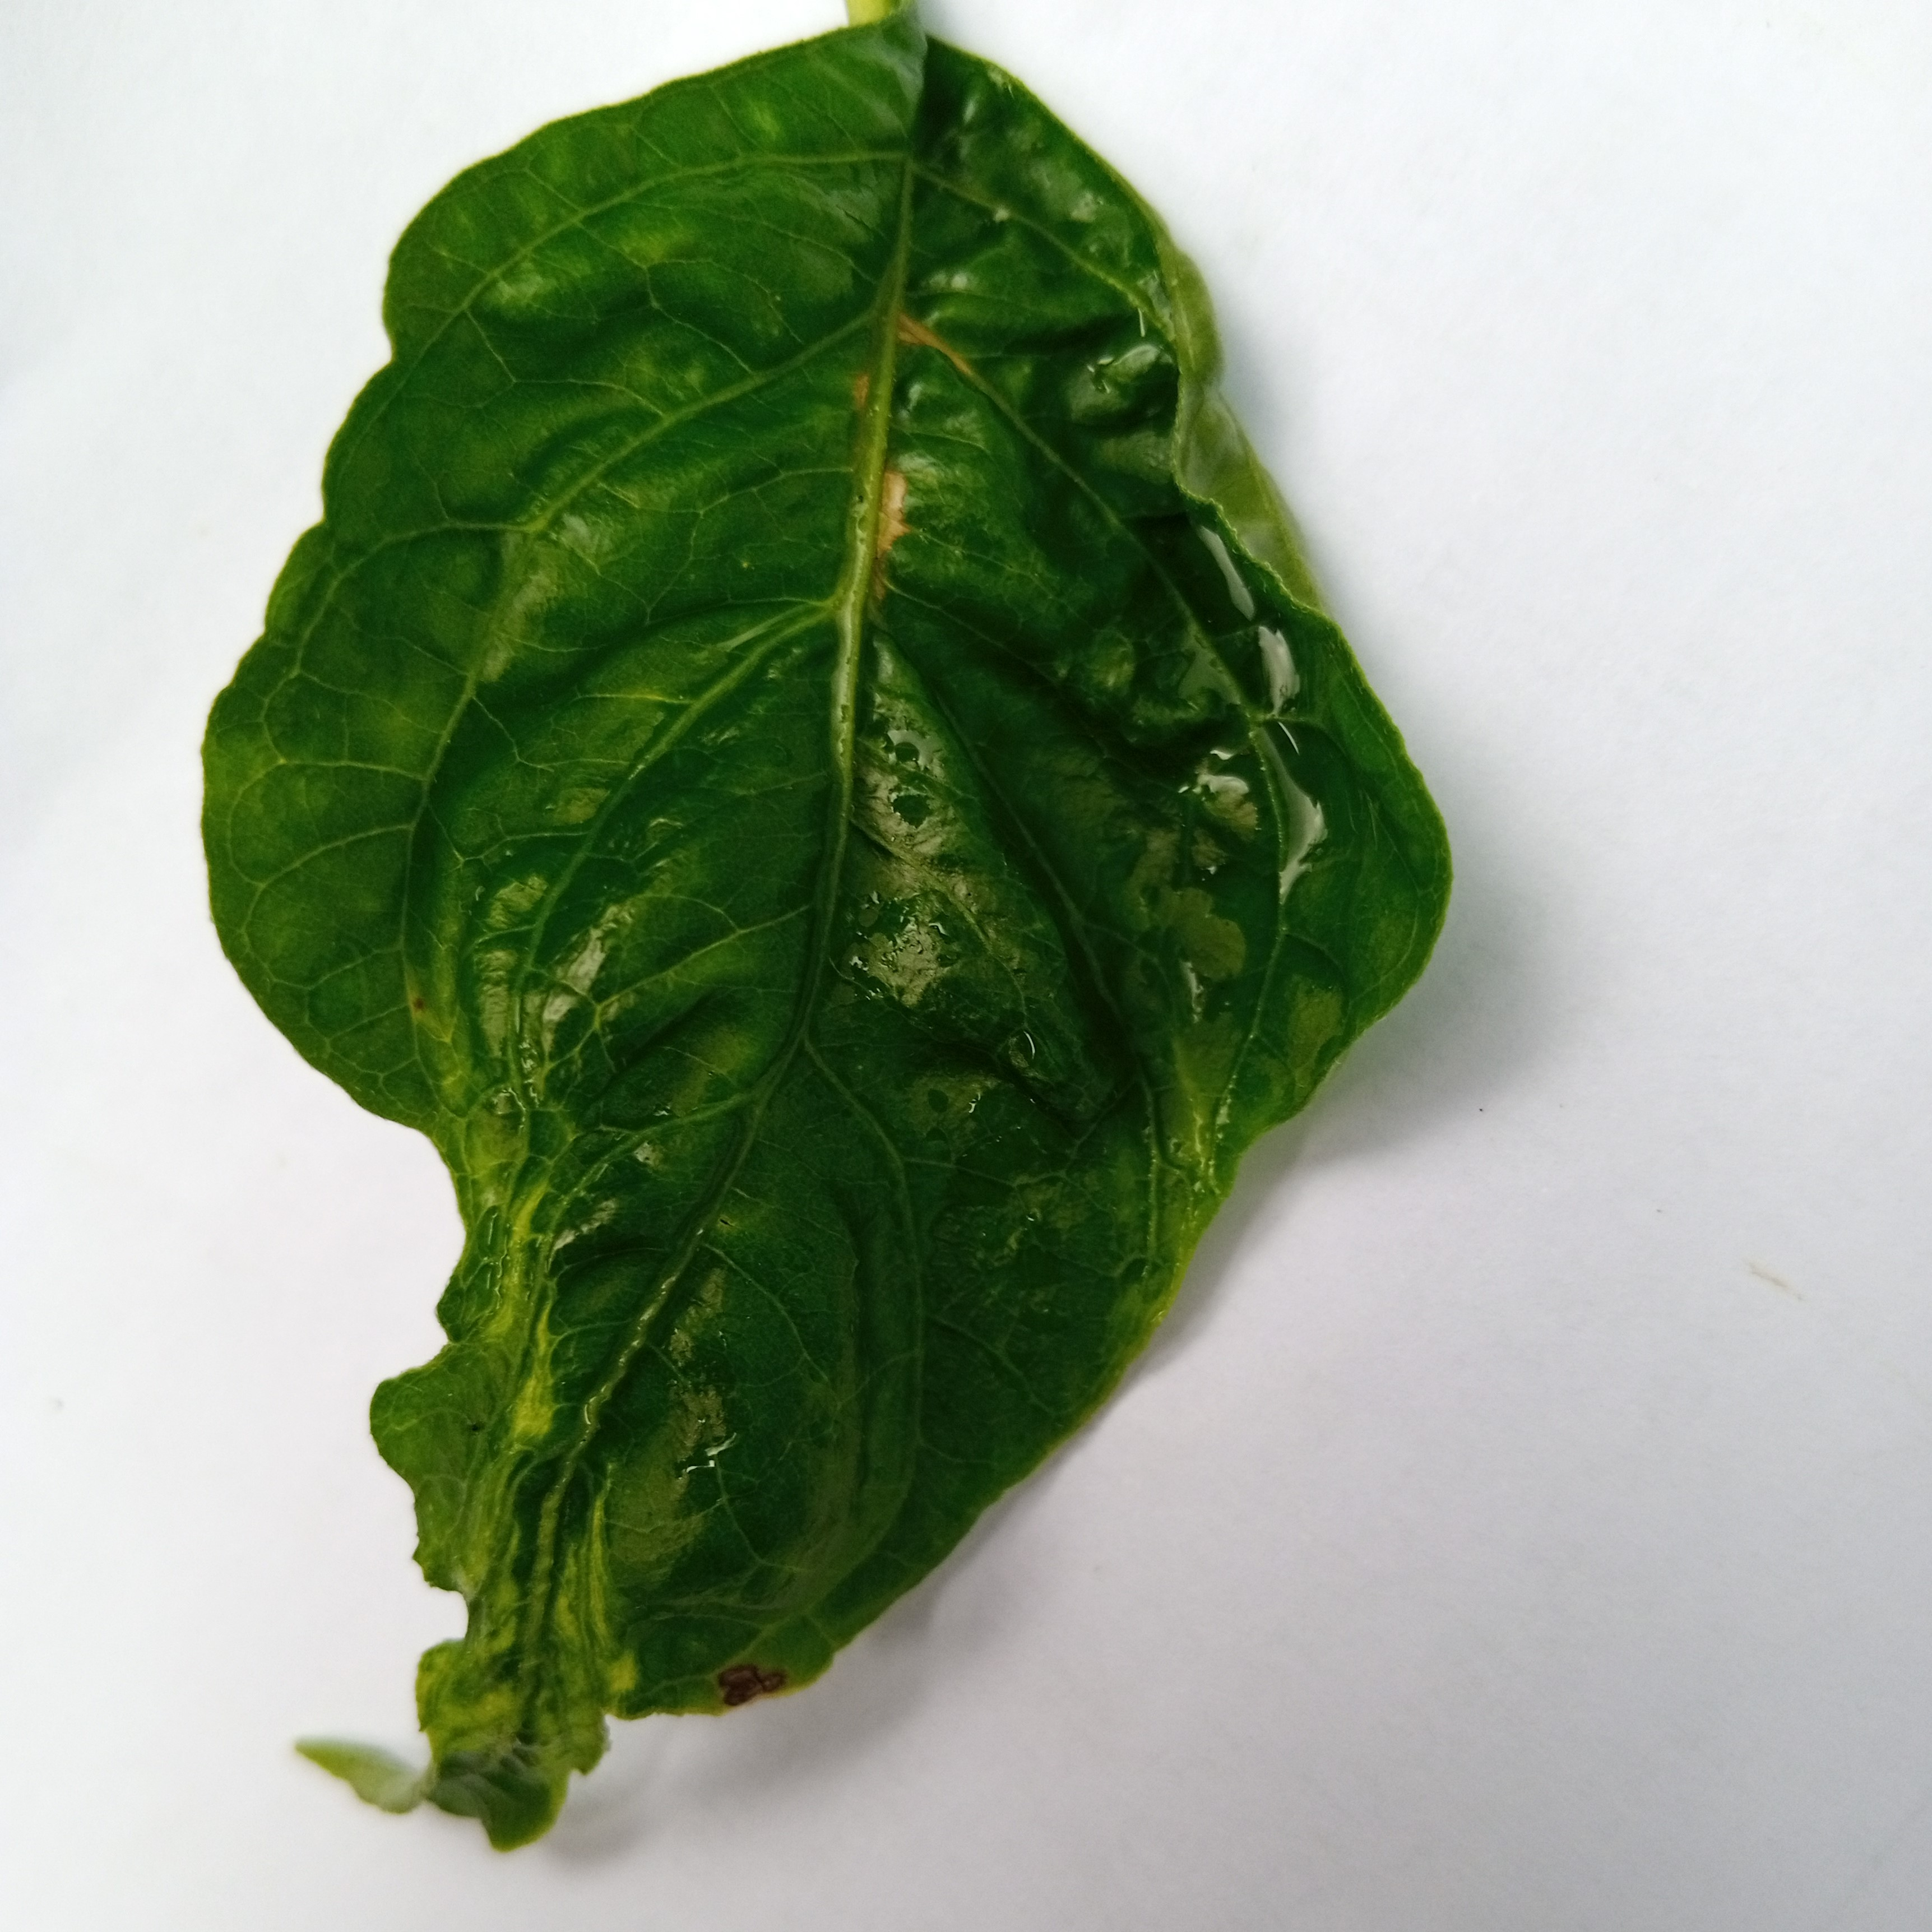Leaf: (119, 7, 1571, 1932)
